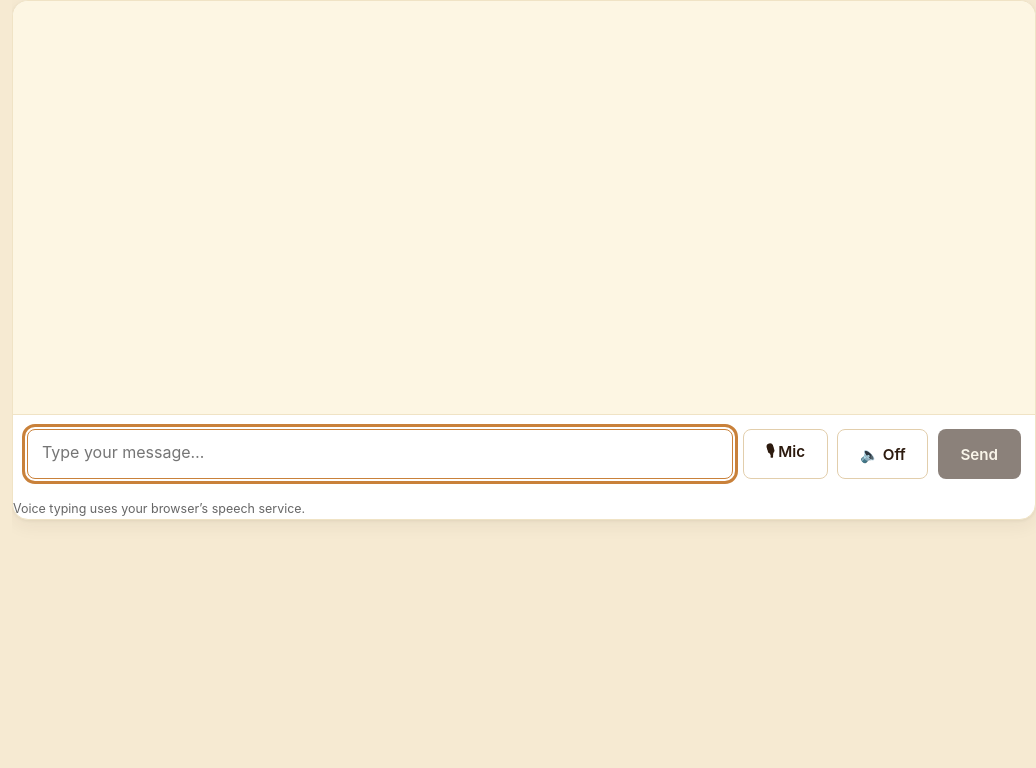
Test: onboarding voice controls › shows recognition errors
The width and height of the screenshot is (1036, 768).
Click the button with aria-label "voice typing" at (785, 454), box [743,429,828,479]
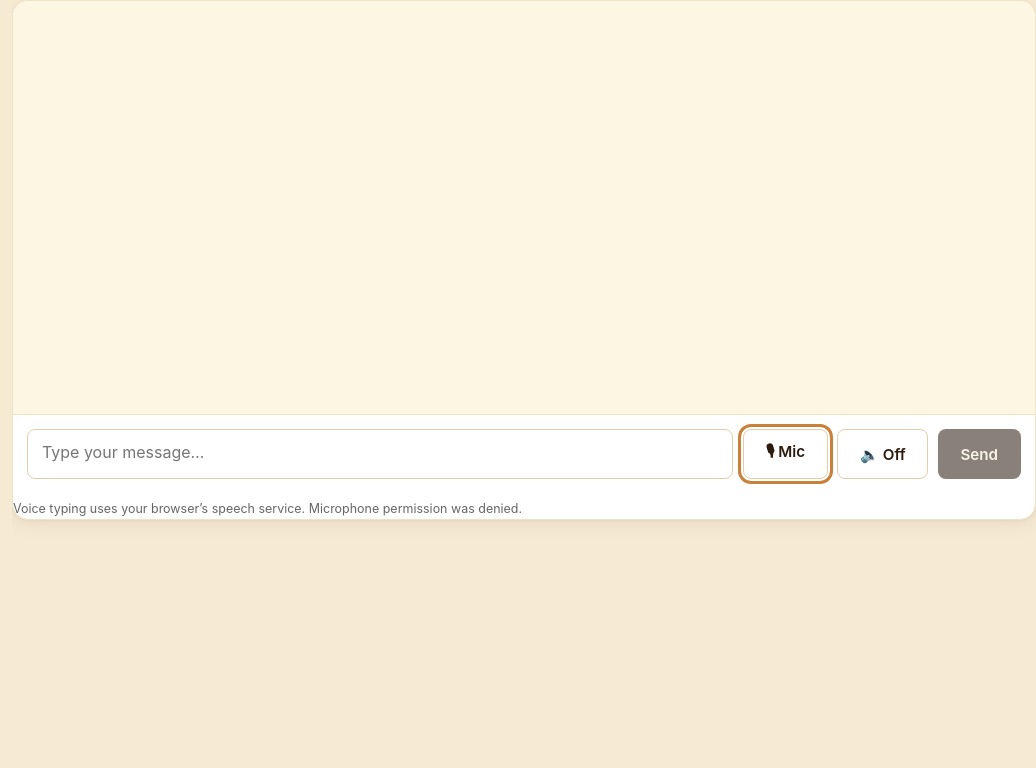
Result: the text "microphone permission was denied" is shown at [305,501,522,516]
